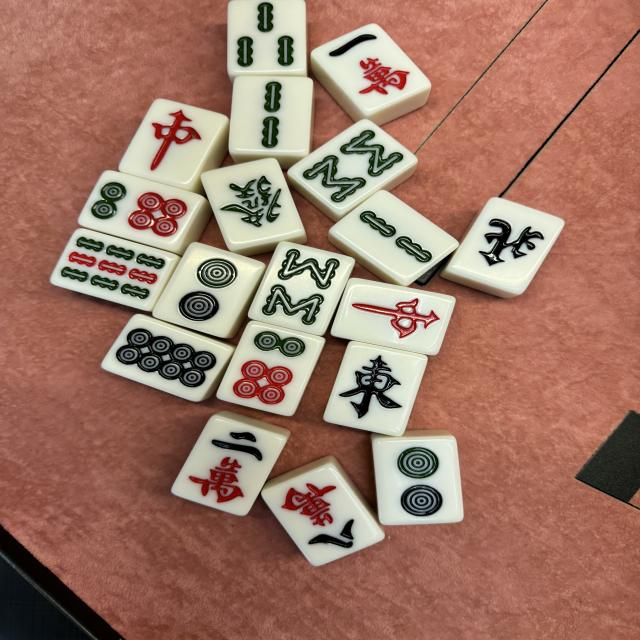hdg: (200, 157, 308, 250)
hdr: (330, 278, 456, 355), (118, 98, 227, 186)
hwe: (323, 341, 428, 437)
hwn: (444, 197, 564, 294)
sb2: (329, 190, 459, 285), (229, 75, 313, 151)
sb3: (228, 0, 306, 72)
sb8: (288, 119, 417, 214), (246, 241, 356, 336)
sb9: (50, 228, 177, 312)
sc1: (310, 22, 430, 116)
sc2: (171, 415, 288, 516)
sc8: (261, 464, 384, 566)
sd2: (151, 242, 265, 338), (372, 435, 464, 526)
sd6: (215, 320, 325, 416), (77, 170, 203, 252)
sd8: (101, 314, 232, 402)
